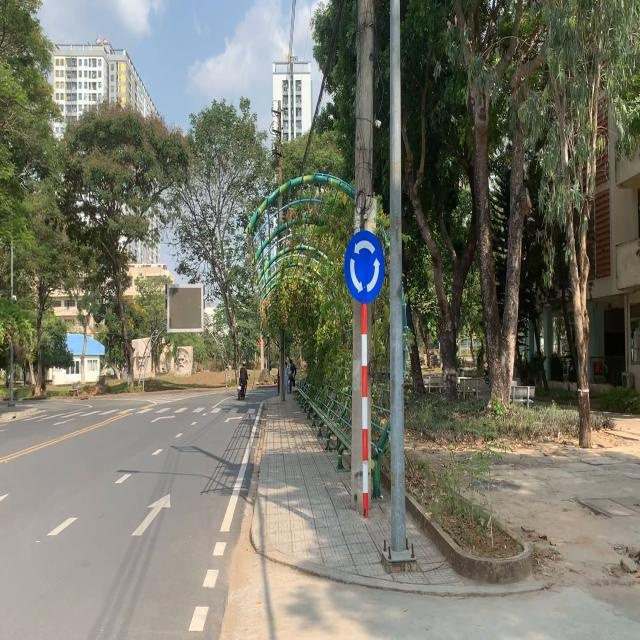bien_hieu_lenh: (344, 229, 385, 305)
